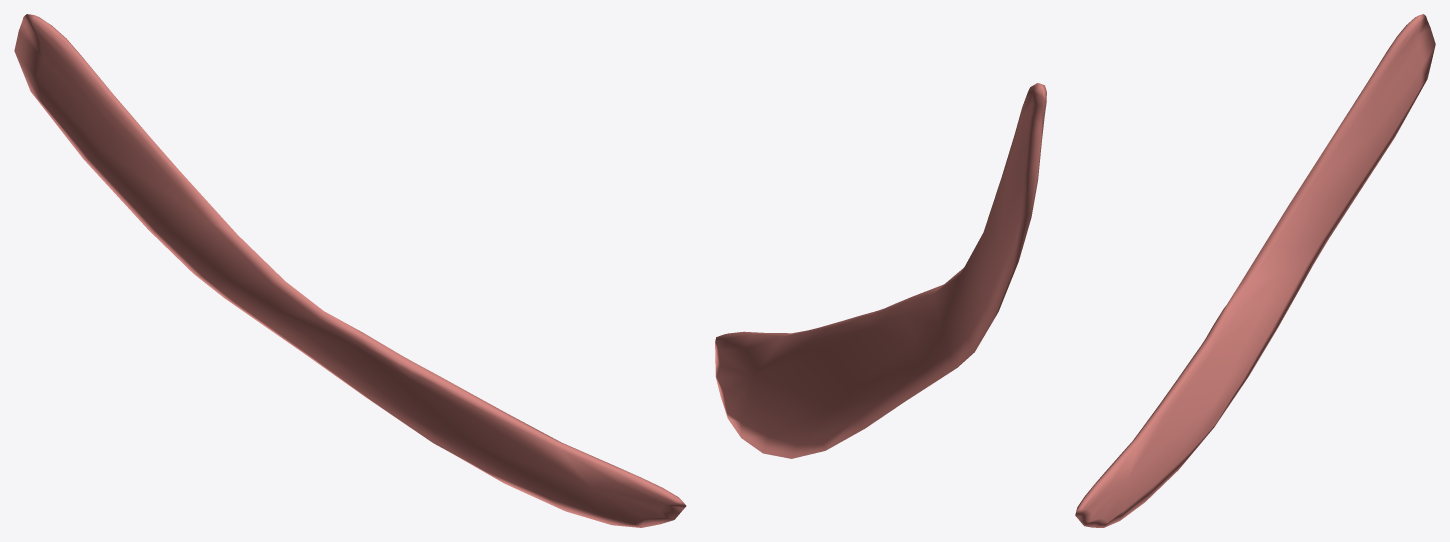
The picture shows the model from 3 angles, left to right: view 1: azimuth 30°, elevation 25°; view 2: azimuth 150°, elevation 25°; view 3: azimuth 270°, elevation 25°; orthographic projection. The views are drawn at different scales.
Parts seen in each view (by area): view 1: ZA_a879a3b3dea58fe1; view 2: ZA_a879a3b3dea58fe1; view 3: ZA_a879a3b3dea58fe1.
Part boxes in pixels (x1,y1,x2,y2): ZA_a879a3b3dea58fe1: (14,14,686,527); ZA_a879a3b3dea58fe1: (715,83,1046,458); ZA_a879a3b3dea58fe1: (1075,14,1435,527).
Size of the model in its own units: 0.0182 by 0.0183 by 0.0166.
